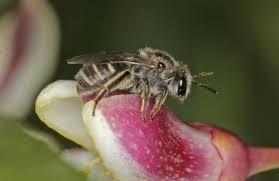Lasioglossum: (63, 47, 219, 114)
